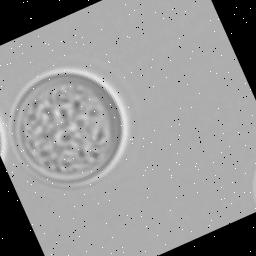picoshell: (12, 72, 123, 184), (0, 116, 8, 163)
